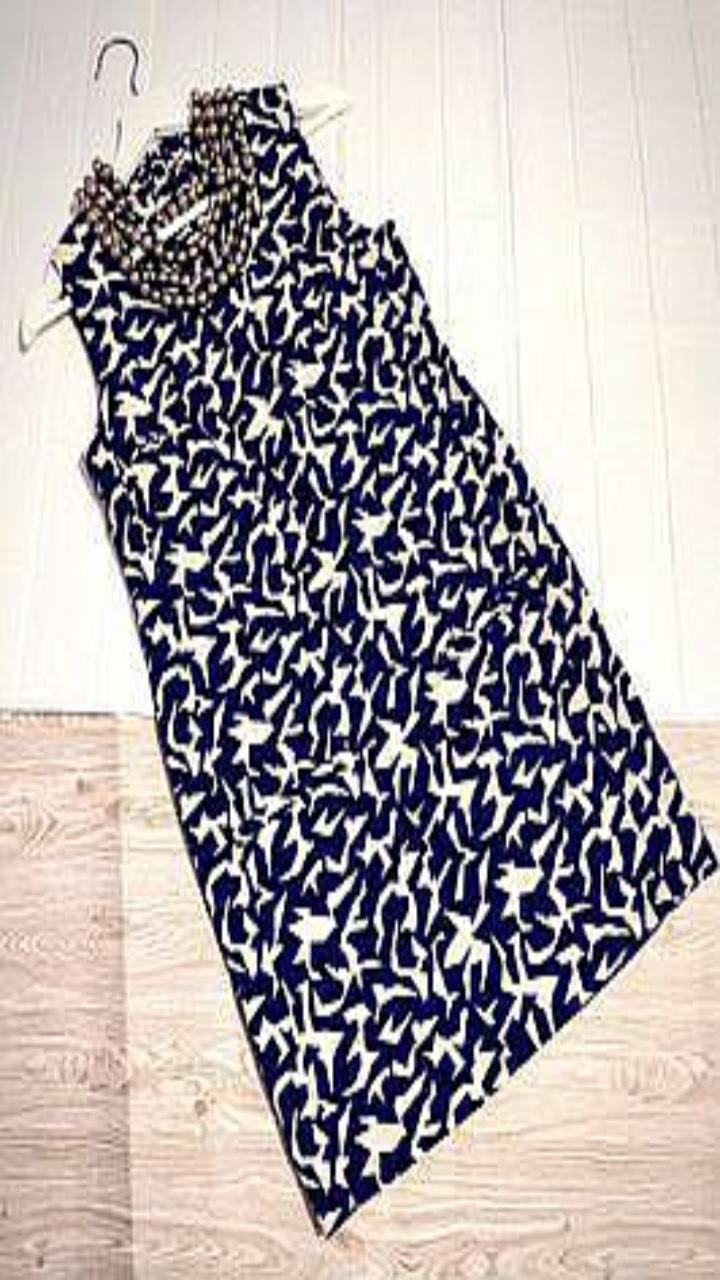Dresses: (54, 82, 717, 1233)
